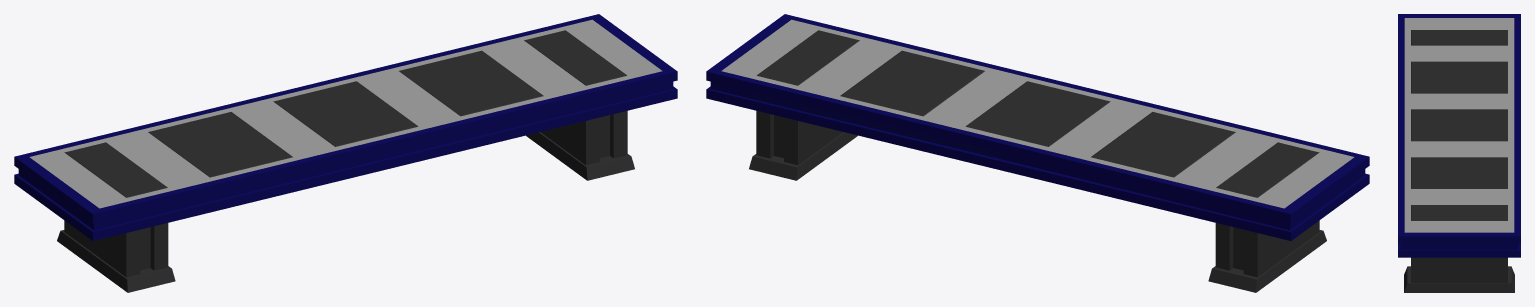
The model's file is bench.fbx.
3 views of the same model, side by side, from view 1: azimuth 30°, elevation 25°; view 2: azimuth 150°, elevation 25°; view 3: azimuth 270°, elevation 25° (orthographic). The views are drawn at different scales.
Visible parts, largest first — view 1: Cube; view 2: Cube; view 3: Cube.
Boxes of the visible parts, bbox=[...] form: Cube: bbox=[14, 14, 677, 292]; Cube: bbox=[706, 14, 1369, 292]; Cube: bbox=[1398, 14, 1520, 292].
Bounding box in the file's own units: 492 × 73.53 × 115.
